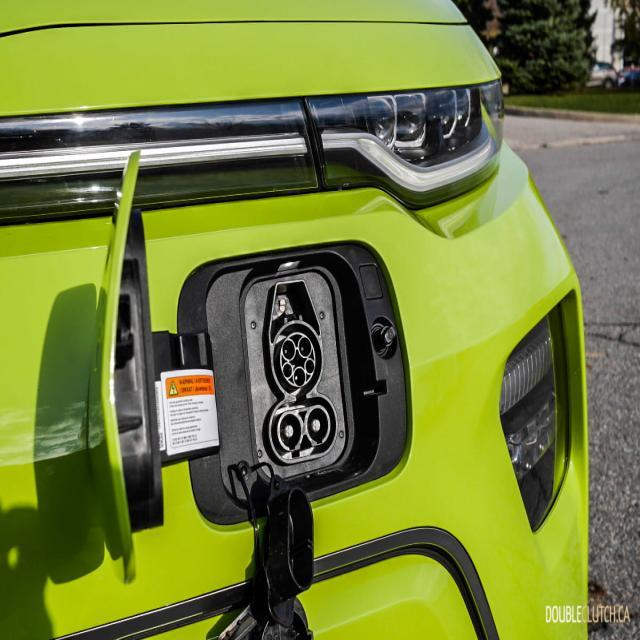CCS1: (232, 296, 376, 486)
